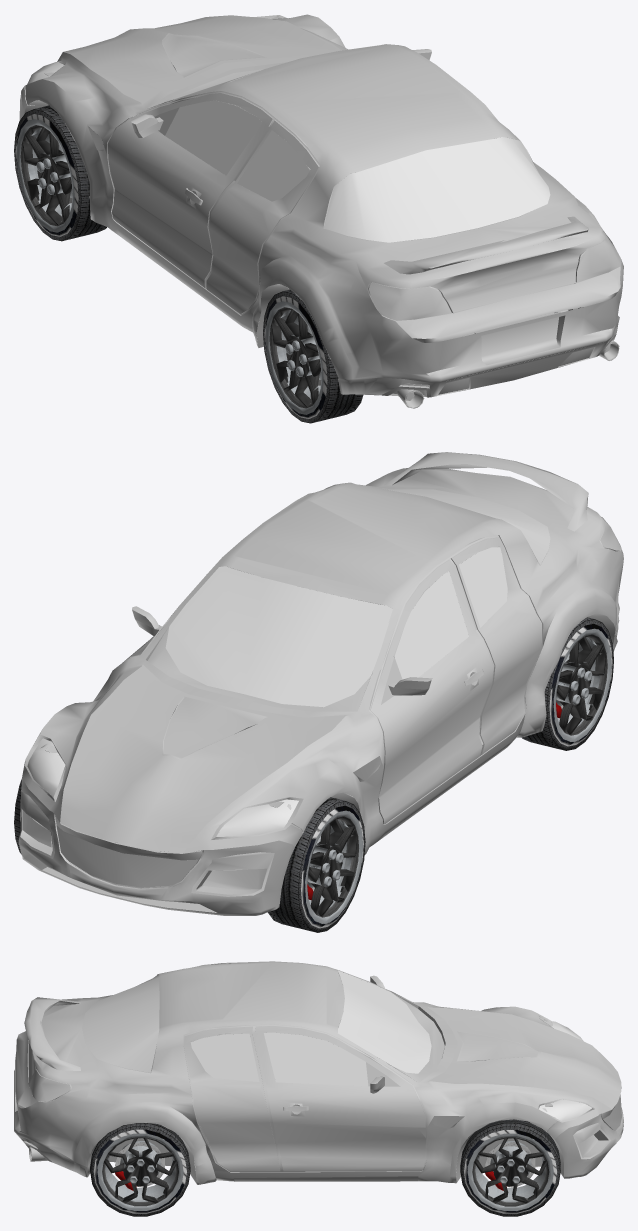
File: RSSport.fbx
The picture shows the model from 3 angles, top to bottom: view 1: azimuth 30°, elevation 25°; view 2: azimuth 150°, elevation 25°; view 3: azimuth 270°, elevation 25°; orthographic projection. The views are drawn at different scales.
Parts seen in each view (by area): view 1: rx sports body, rx sports tire.007, rx sports body.001, rx sports body.005, rx sports tire.001, rx sports tire.002, rx sports tire, rx sports interior, rx sports body.007, rx sports interior.002, rx sports interior.001; view 2: rx sports body, rx sports body.005, rx sports tire.008, rx sports body.001, rx sports interior, rx sports tire.001, rx sports body.006, rx sports tire, rx sports tire.002, rx sports body.007, rx sports tire.007, rx sports tire.005 (+1 smaller); view 3: rx sports body, rx sports body.003, rx sports body.005, rx sports tire.003, rx sports tire.004, rx sports tire.009, rx sports tire.008, rx sports tire.007, rx sports interior, rx sports body.006, rx sports body.007, rx sports body.004 (+2 smaller).
Boxes of the visible parts, x1,y1,x2,y2 form: rx sports body: (21,14,623,397); rx sports tire.007: (323,137,550,242); rx sports body.001: (108,93,272,287); rx sports body.005: (63,15,341,104); rx sports tire.001: (14,105,106,241); rx sports tire.002: (263,289,363,423); rx sports tire: (165,100,531,226); rx sports interior: (20,16,619,408); rx sports body.007: (384,216,588,274); rx sports interior.002: (369,282,451,320); rx sports interior.001: (576,232,621,282); rx sports body: (22,468,623,890); rx sports body.005: (60,665,347,852); rx sports tire.008: (165,566,392,707); rx sports body.001: (370,560,494,823); rx sports interior: (19,490,619,896); rx sports tire.001: (268,797,365,932); rx sports body.006: (18,778,294,915); rx sports tire: (394,547,539,679); rx sports tire.002: (522,617,613,750); rx sports body.007: (384,452,588,531); rx sports tire.007: (359,484,550,565); rx sports tire.005: (216,799,298,836); rx sports body: (14,961,617,1184); rx sports body.003: (255,1026,425,1171); rx sports body.005: (428,1007,621,1108); rx sports tire.003: (460,1119,560,1216); rx sports tire.004: (90,1123,190,1216); rx sports tire.009: (190,1032,368,1086); rx sports tire.008: (338,970,431,1073); rx sports tire.007: (82,974,159,1072); rx sports interior: (21,973,621,1184); rx sports body.006: (551,1107,623,1178); rx sports body.007: (24,997,80,1070); rx sports body.004: (233,1176,418,1181).
Size of the model in its own units: 250 by 188 by 595.
